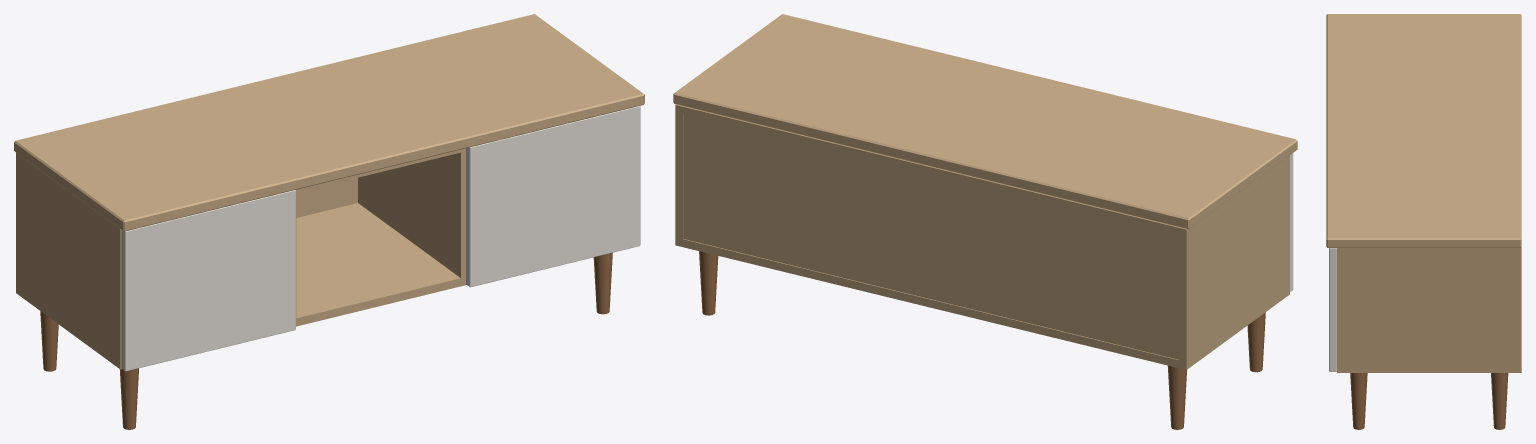
File: 29_szafka_rtv_120.glb
3 views of the same model, side by side, from view 1: azimuth 30°, elevation 25°; view 2: azimuth 150°, elevation 25°; view 3: azimuth 270°, elevation 25° (orthographic). The views are drawn at different scales.
Parts seen in each view (by area): view 1: Wierzch, Korpus, Front_klapa_1, Front_klapa_3, Nogi; view 2: Korpus, Wierzch, Nogi; view 3: Wierzch, Korpus, Nogi, Front_klapa_3.
Part boxes in pixels (x1=…): Wierzch: x1=14, y1=14, x2=644, y2=231; Korpus: x1=16, y1=148, x2=466, y2=369; Front_klapa_1: x1=121, y1=190, x2=295, y2=371; Front_klapa_3: x1=466, y1=106, x2=640, y2=287; Nogi: x1=40, y1=252, x2=612, y2=429; Korpus: x1=675, y1=104, x2=1289, y2=369; Wierzch: x1=673, y1=14, x2=1297, y2=229; Nogi: x1=699, y1=251, x2=1265, y2=429; Wierzch: x1=1326, y1=14, x2=1521, y2=247; Korpus: x1=1337, y1=247, x2=1521, y2=372; Nogi: x1=1350, y1=373, x2=1508, y2=429; Front_klapa_3: x1=1329, y1=248, x2=1336, y2=371.
Bounding box in the file's own units: 1.21 × 0.5 × 0.444.
